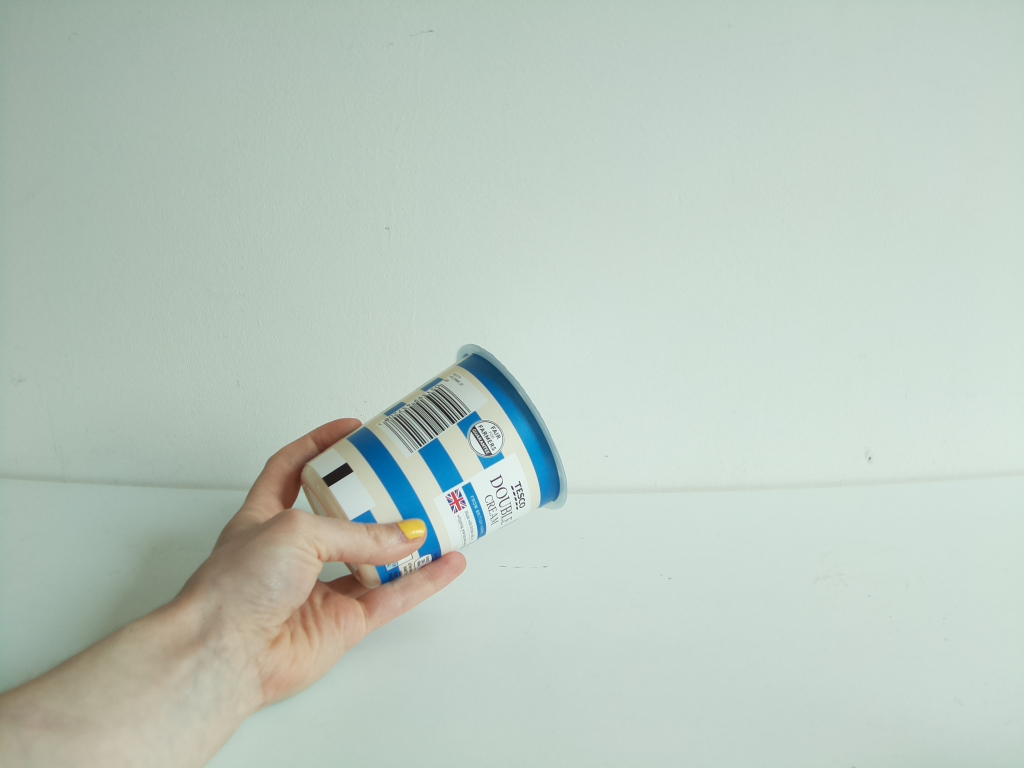cream: (298, 342, 570, 598)
